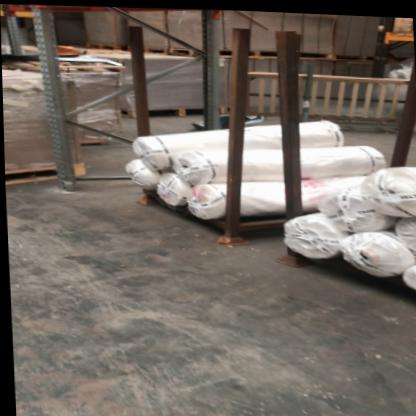vertical_damage: (47, 168, 85, 196)
